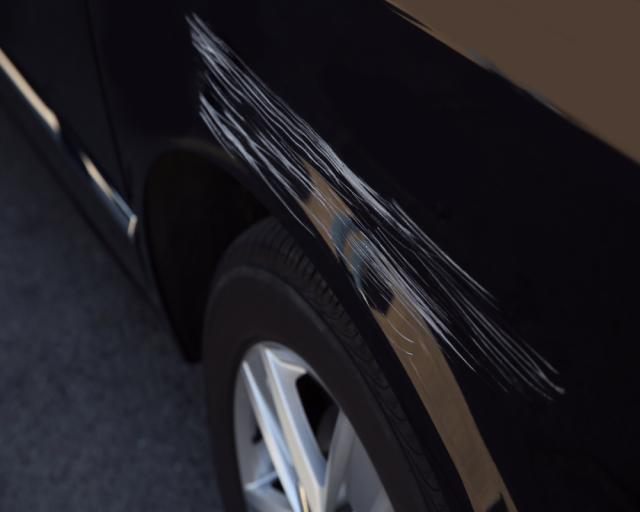scratch: (185, 7, 572, 403)
